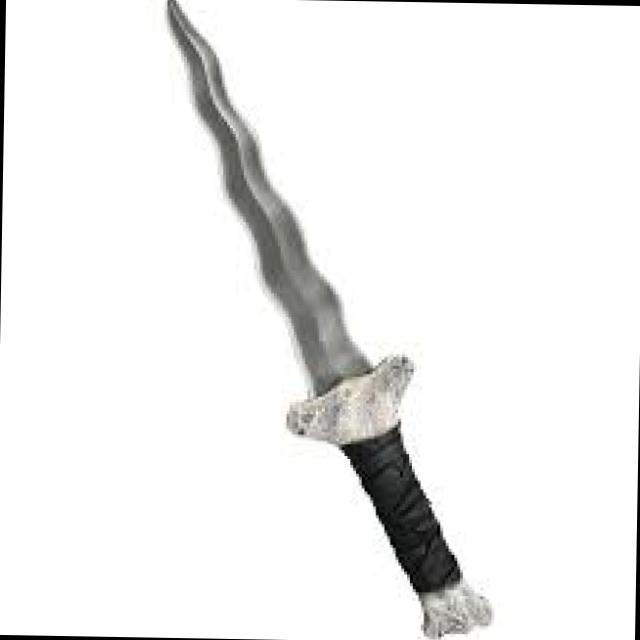Gun: (135, 0, 522, 640)
